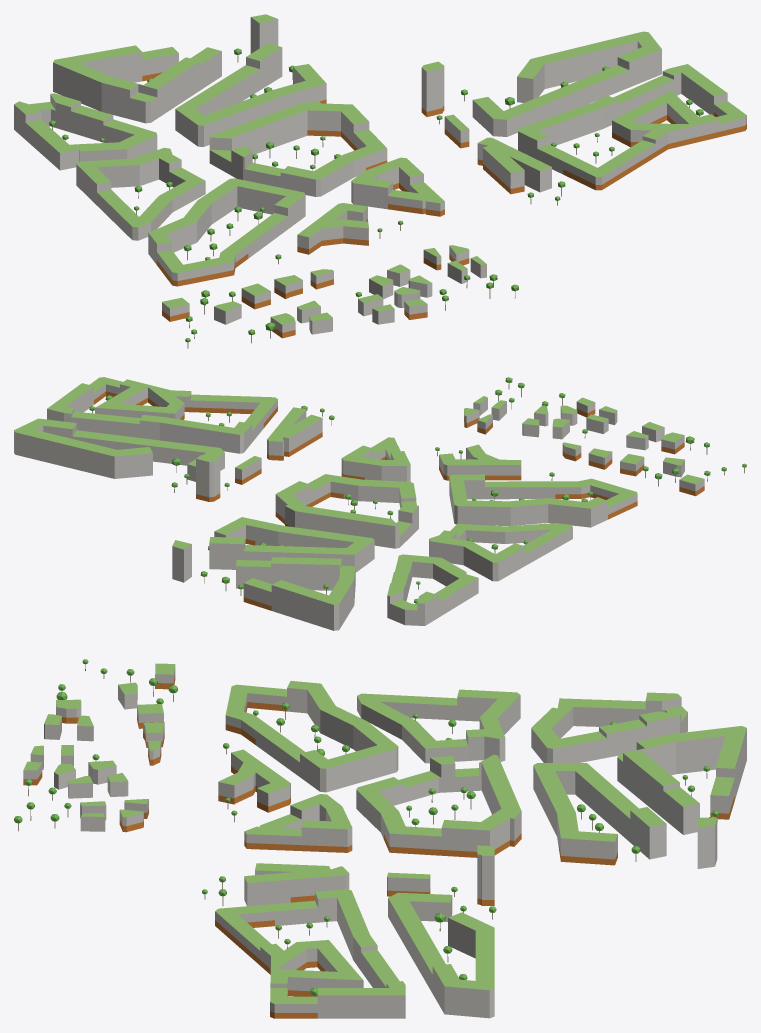
3 views of the same model, one above another, from view 1: azimuth 30°, elevation 25°; view 2: azimuth 150°, elevation 25°; view 3: azimuth 270°, elevation 25° (orthographic). The views are drawn at different scales.
Parts seen in each view (by area): view 1: V4_P2_wohnen, V4_P3_wohnen, V4_P1_wohnen, V4_P3_dach, V4_P2_dach, V4_P1_dach, V4_P4_wohnen, V4_P3_eg, V4_P4_dach, V4_P4_eg, V4_P3_baeume, V4_P4_baeume (+2 smaller); view 2: V4_P3_wohnen, V4_P2_wohnen, V4_P1_wohnen, V4_P3_dach, V4_P2_dach, V4_P1_dach, V4_P4_wohnen, V4_P4_dach, V4_P3_eg, V4_P4_eg, V4_P4_baeume, V4_P2_eg (+1 smaller); view 3: V4_P3_wohnen, V4_P1_wohnen, V4_P2_wohnen, V4_P3_dach, V4_P2_dach, V4_P1_dach, V4_P4_wohnen, V4_P4_dach, V4_P3_eg, V4_P2_eg, V4_P4_baeume, V4_P2_baeume (+2 smaller).
Boxes of the visible parts, x1=… form: V4_P2_wohnen: x1=76, y1=41, x2=661, y2=240; V4_P3_wohnen: x1=148, y1=71, x2=746, y2=280; V4_P1_wohnen: x1=14, y1=17, x2=326, y2=170; V4_P3_dach: x1=149, y1=64, x2=746, y2=272; V4_P2_dach: x1=76, y1=31, x2=661, y2=227; V4_P1_dach: x1=14, y1=14, x2=326, y2=152; V4_P4_wohnen: x1=162, y1=246, x2=486, y2=334; V4_P3_eg: x1=157, y1=112, x2=746, y2=286; V4_P4_dach: x1=162, y1=245, x2=486, y2=324; V4_P4_eg: x1=162, y1=254, x2=469, y2=338; V4_P3_baeume: x1=184, y1=99, x2=703, y2=264; V4_P4_baeume: x1=185, y1=274, x2=518, y2=348; V4_P3_wohnen: x1=47, y1=384, x2=637, y2=527; V4_P2_wohnen: x1=14, y1=423, x2=572, y2=581; V4_P1_wohnen: x1=172, y1=525, x2=478, y2=630; V4_P3_dach: x1=47, y1=377, x2=637, y2=508; V4_P2_dach: x1=14, y1=418, x2=572, y2=562; V4_P1_dach: x1=172, y1=517, x2=478, y2=610; V4_P4_wohnen: x1=464, y1=398, x2=704, y2=491; V4_P4_dach: x1=464, y1=396, x2=703, y2=484; V4_P3_eg: x1=94, y1=391, x2=637, y2=519; V4_P4_eg: x1=464, y1=409, x2=704, y2=496; V4_P4_baeume: x1=495, y1=377, x2=746, y2=486; V4_P2_eg: x1=196, y1=469, x2=343, y2=526; V4_P3_wohnen: x1=215, y1=688, x2=405, y2=1018; V4_P1_wohnen: x1=531, y1=697, x2=746, y2=868; V4_P2_wohnen: x1=356, y1=695, x2=521, y2=1018; V4_P3_dach: x1=215, y1=681, x2=405, y2=1003; V4_P2_dach: x1=356, y1=689, x2=521, y2=990; V4_P1_dach: x1=531, y1=692, x2=746, y2=841; V4_P4_wohnen: x1=23, y1=666, x2=175, y2=831; V4_P4_dach: x1=23, y1=663, x2=175, y2=817; V4_P3_eg: x1=215, y1=702, x2=352, y2=1018; V4_P2_eg: x1=384, y1=833, x2=521, y2=905; V4_P4_baeume: x1=14, y1=659, x2=177, y2=831; V4_P2_baeume: x1=406, y1=713, x2=496, y2=979.
Size of the model in its own units: 526 by 35.2 by 467.
